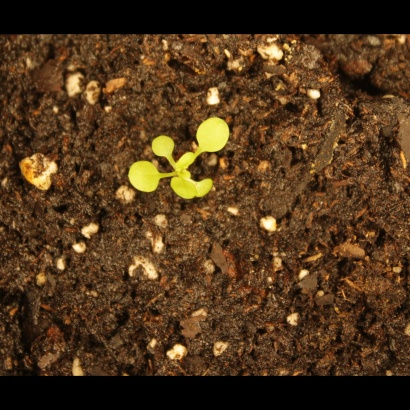leaf: (192, 113, 234, 158), (127, 159, 164, 197), (146, 132, 179, 159), (166, 176, 199, 203), (196, 177, 219, 200), (175, 151, 198, 174)
